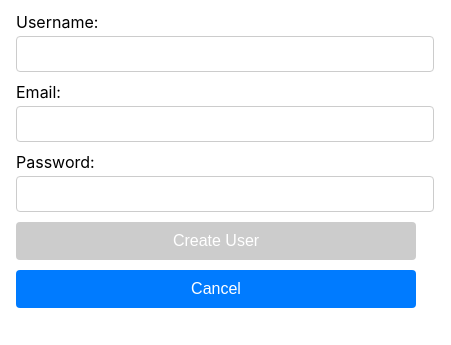
Test: CreateUserForm › displays error message if the email is invalid
Type "invalid_email" into the field labelled "Email:" at (225, 124), box [16,106,434,142]
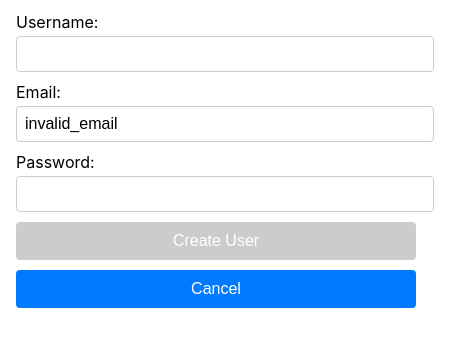
Leave the field labelled "Email:", box [16,106,434,142]
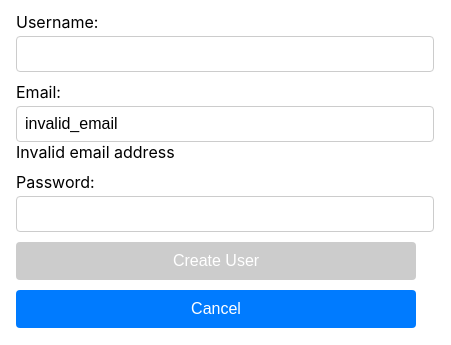
Now the text "Invalid email address" is shown, box [16,142,175,162]
